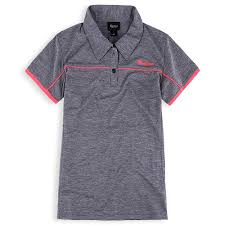C_polo shirt: (25, 6, 196, 221)
